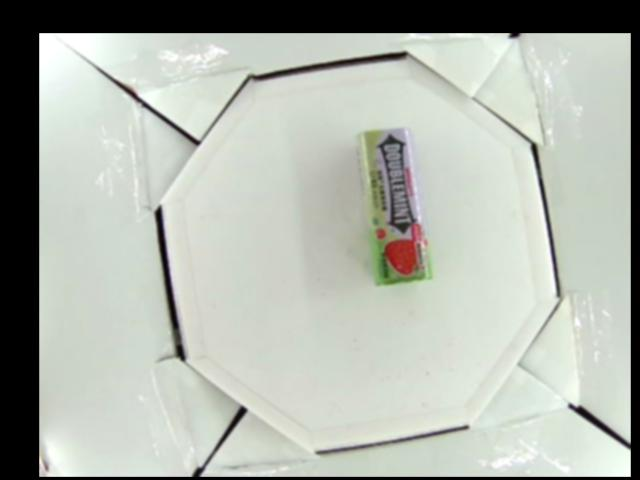Bottle: (357, 126, 434, 286)
